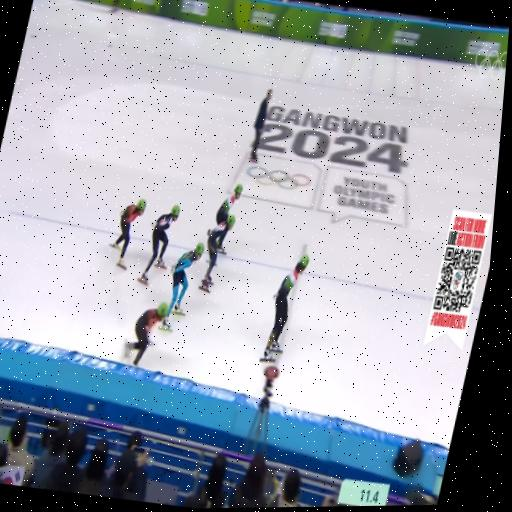Skater: (260, 255, 309, 362), (161, 243, 204, 329), (138, 205, 180, 284), (124, 302, 168, 366), (200, 215, 235, 292), (111, 200, 146, 269), (216, 184, 242, 225)
